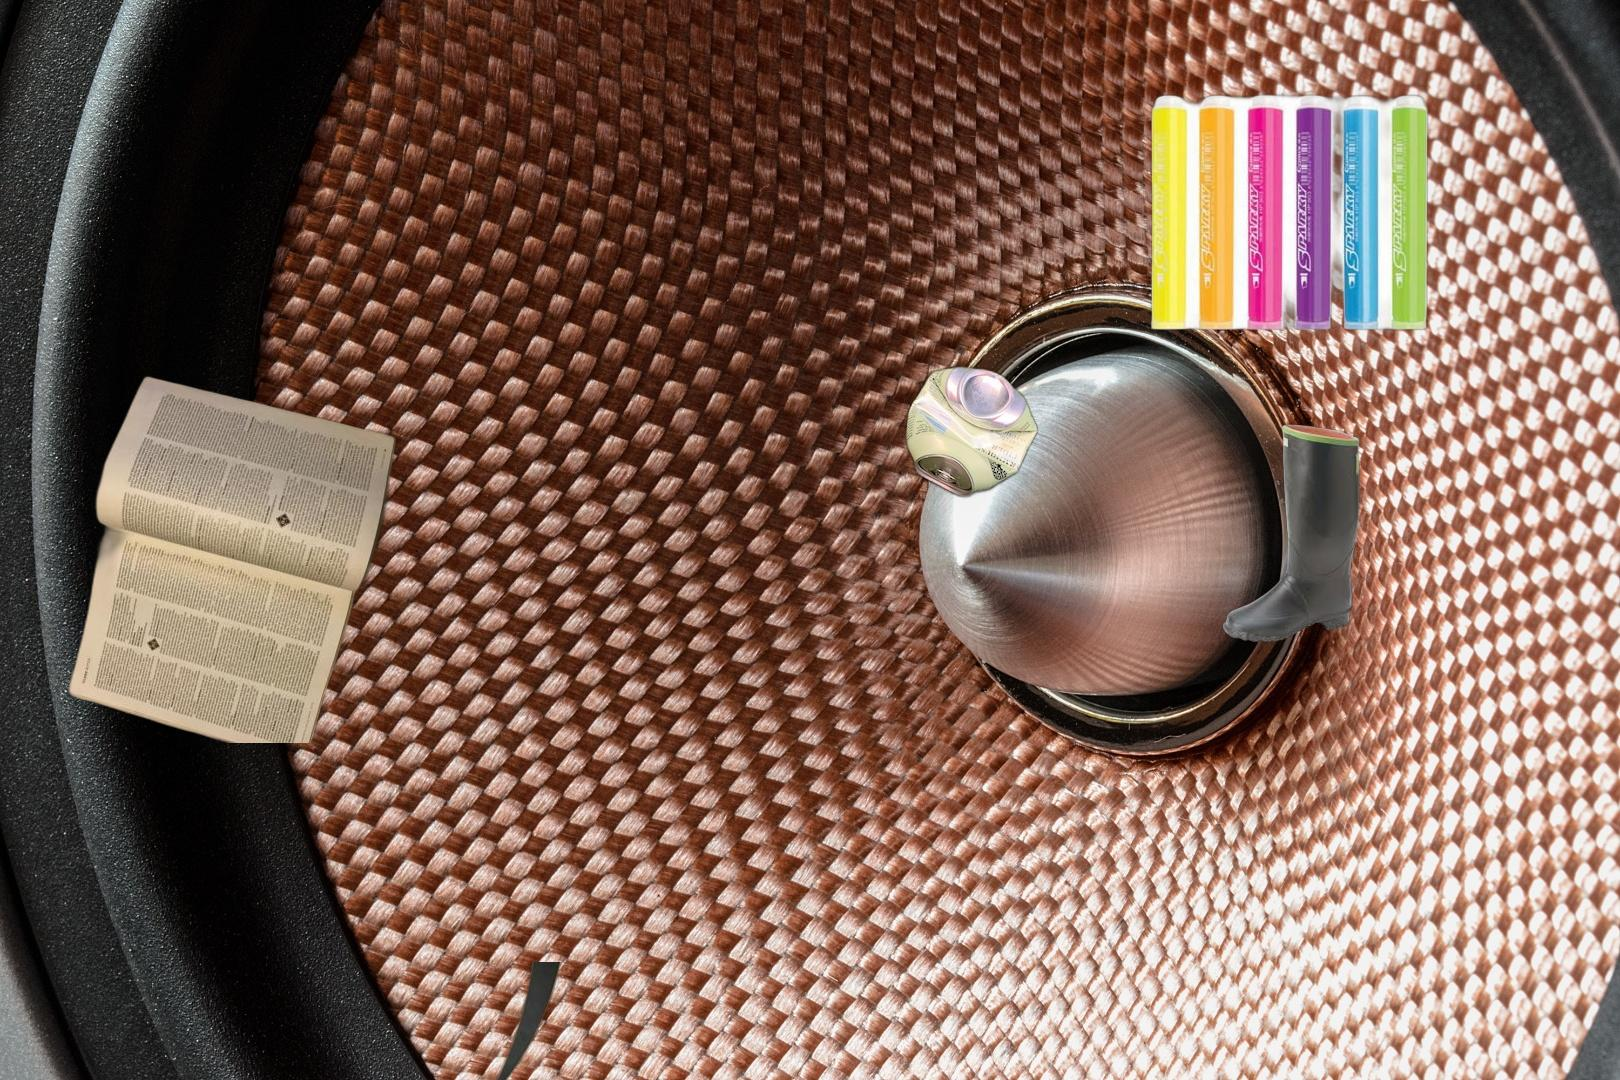metal-cans: (705, 360, 1043, 824)
paper: (63, 372, 401, 742)
penholder: (1147, 90, 1434, 333)
plastic-bottles: (1149, 1032, 1620, 1080)
shoes: (1220, 422, 1362, 645)
trashbox-cardboard: (491, 962, 567, 1080)
